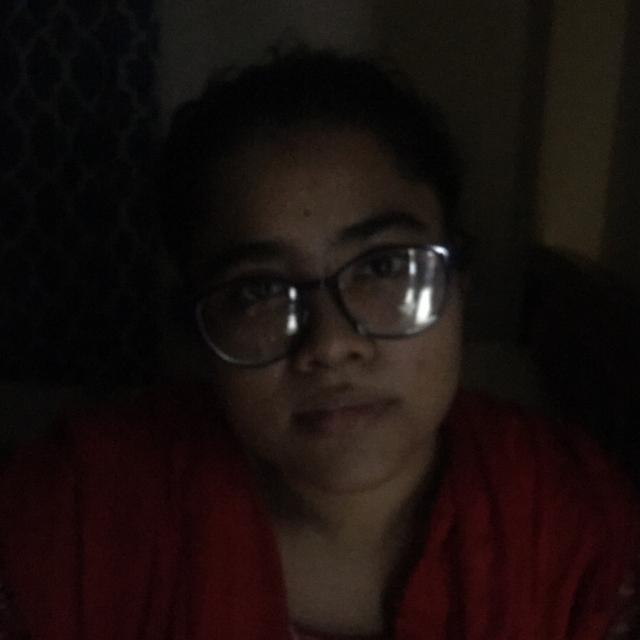Natural: (166, 102, 495, 505)
